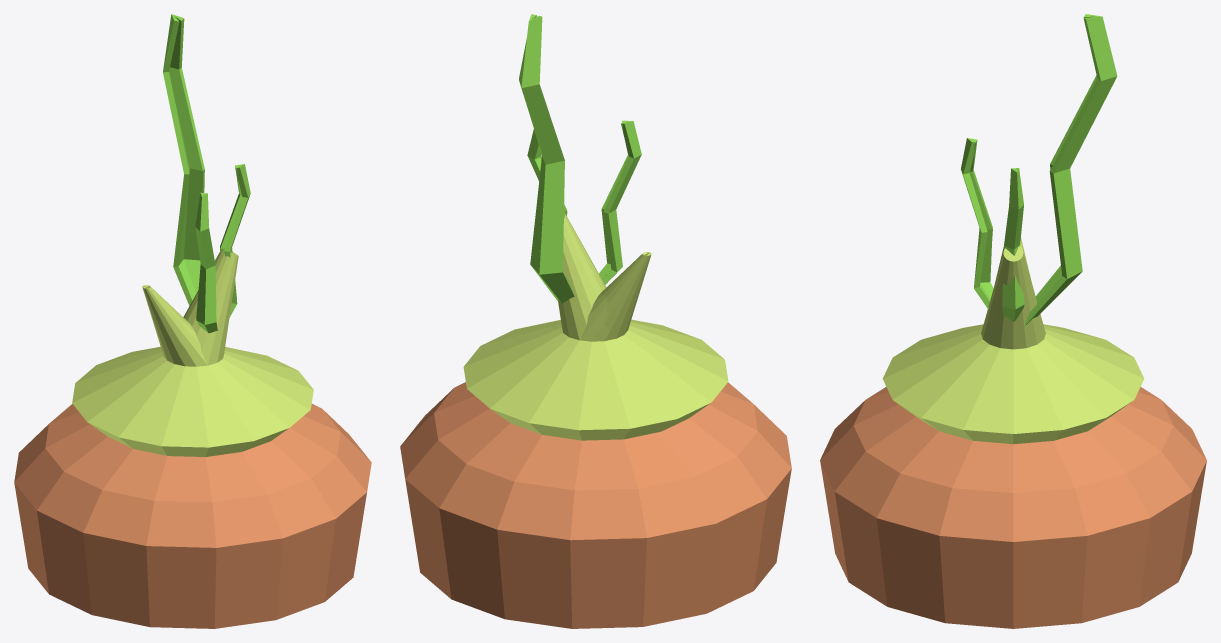
Rendered from fruit11.fbx.
The picture shows the model from 3 angles, left to right: view 1: azimuth 30°, elevation 25°; view 2: azimuth 150°, elevation 25°; view 3: azimuth 270°, elevation 25°; orthographic projection. The views are drawn at different scales.
Visible parts, largest first — view 1: Plane.063; view 2: Plane.063; view 3: Plane.063.
Boxes of the visible parts, x1=… form: Plane.063: x1=14, y1=14, x2=371, y2=628; Plane.063: x1=400, y1=14, x2=791, y2=628; Plane.063: x1=820, y1=14, x2=1206, y2=628.
Bounding box in the file's own units: 0.1118 × 0.1746 × 0.1118.
